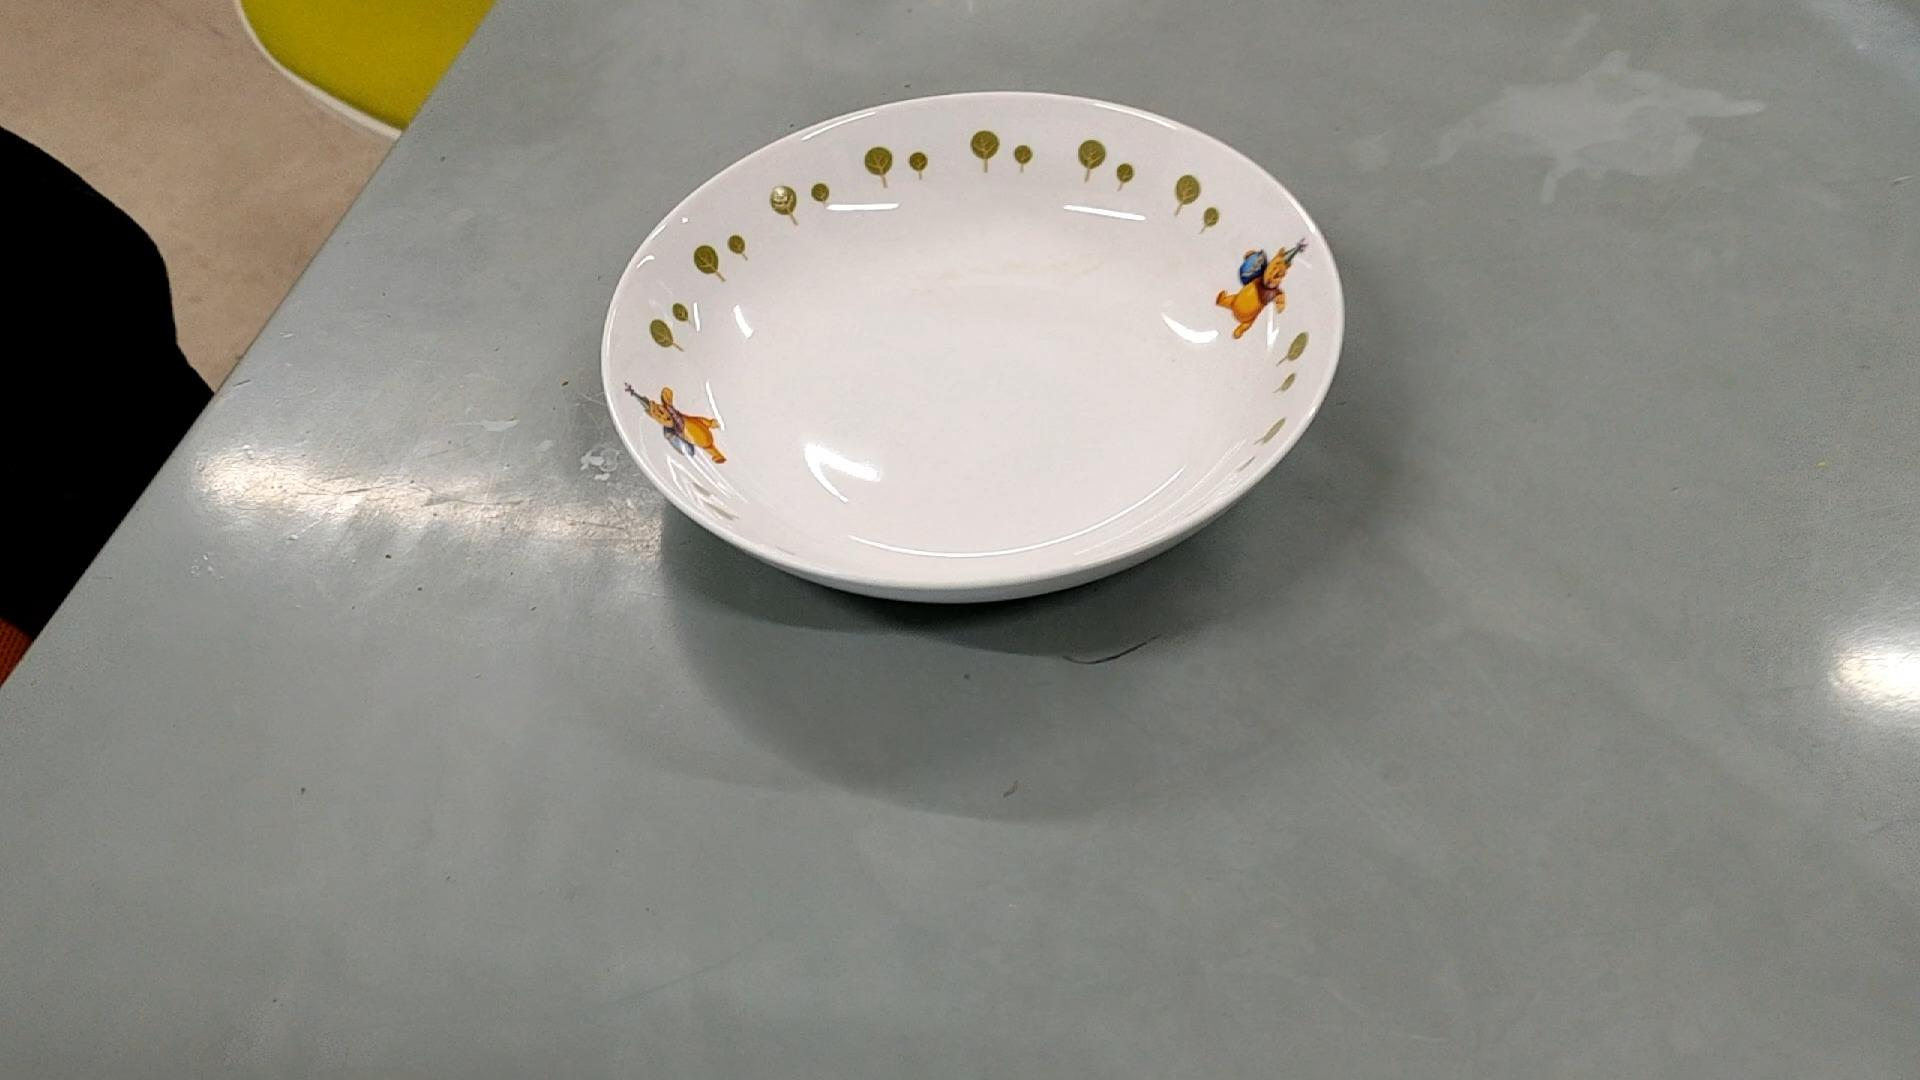plate: (608, 88, 1345, 609)
